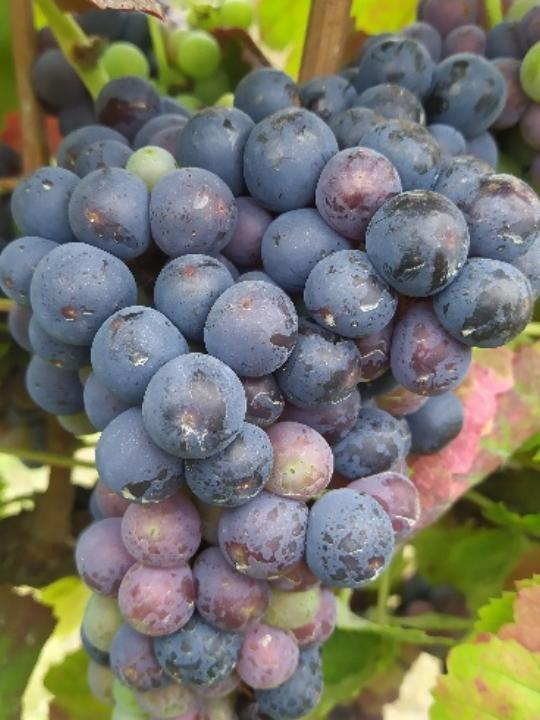grape: (0, 41, 540, 720)
